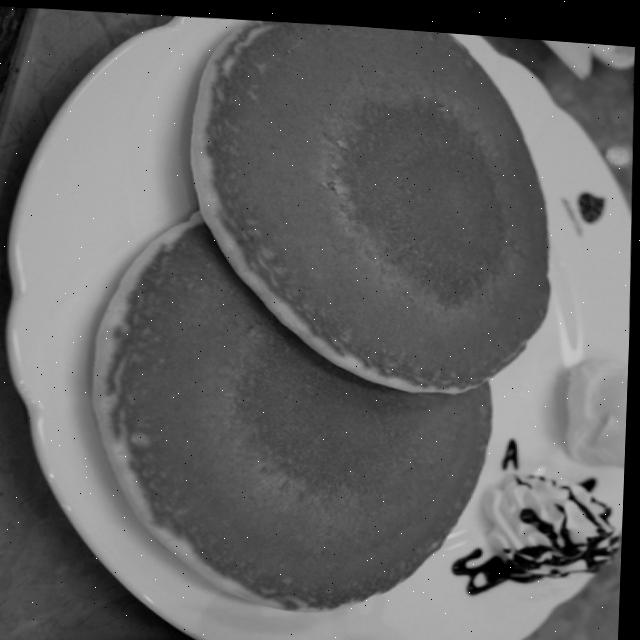蛋糕甜品: (15, 2, 640, 640)
